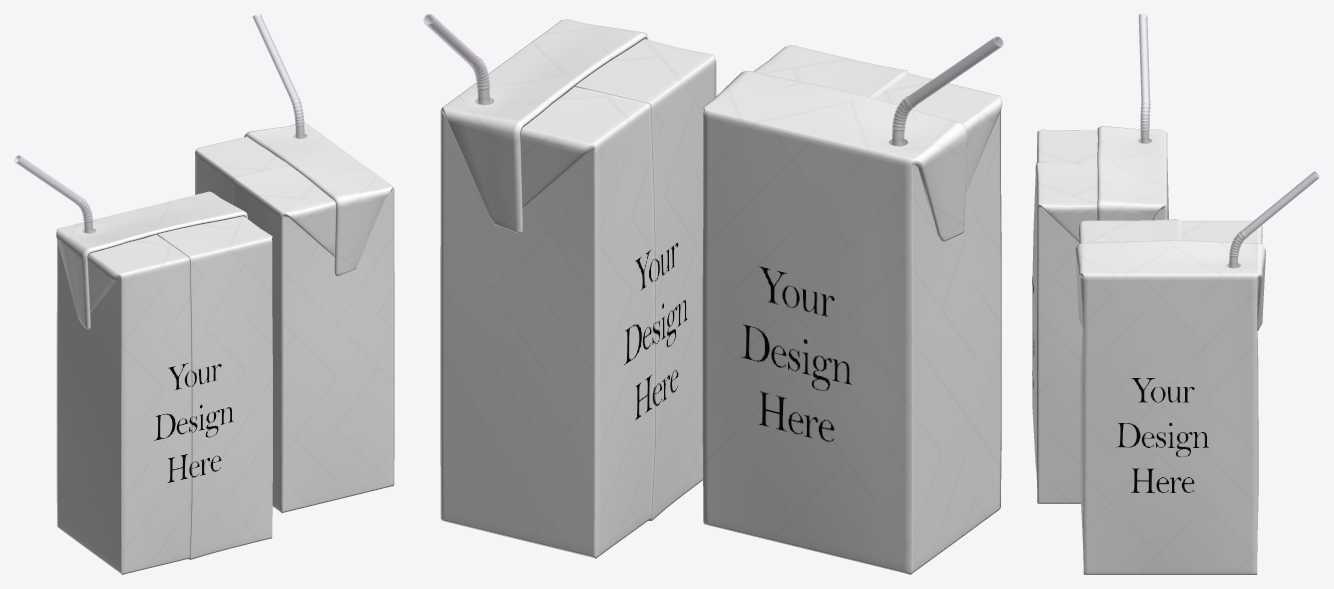
Rendered from Beverage A-3.glb.
The picture shows the model from 3 angles, left to right: view 1: azimuth 30°, elevation 25°; view 2: azimuth 150°, elevation 25°; view 3: azimuth 270°, elevation 25°; orthographic projection. The views are drawn at different scales.
Parts seen in each view (by area): view 1: Object_2, Object_2.002, Object_3.001, Object_3; view 2: Object_2, Object_2.002, Object_3, Object_3.001; view 3: Object_2.002, Object_2, Object_3, Object_3.001.
Part boxes in pixels (<box>): Object_2: <box>56,191,272,574</box>; Object_2.002: <box>195,122,394,513</box>; Object_3.001: <box>252,14,304,138</box>; Object_3: <box>14,155,93,233</box>; Object_2: <box>702,45,1002,574</box>; Object_2.002: <box>440,19,716,558</box>; Object_3: <box>891,36,1003,145</box>; Object_3.001: <box>423,14,489,104</box>; Object_2.002: <box>1075,219,1265,574</box>; Object_2: <box>1032,126,1168,503</box>; Object_3: <box>1138,14,1150,143</box>; Object_3.001: <box>1229,171,1319,267</box>.
Bounding box in the file's own units: 17.59 × 18.81 × 12.42.
Materials: 3 (1 with a texture image).
